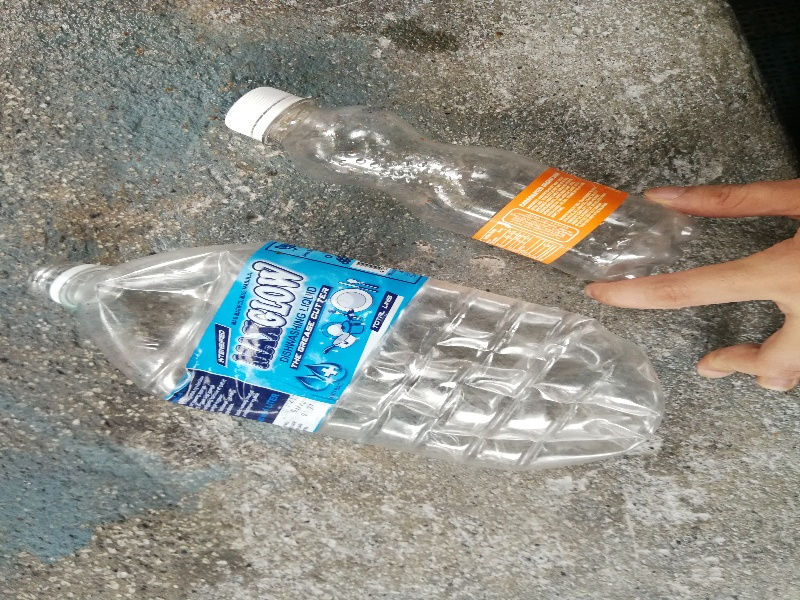PET #1: (21, 251, 680, 482), (224, 85, 705, 298)
